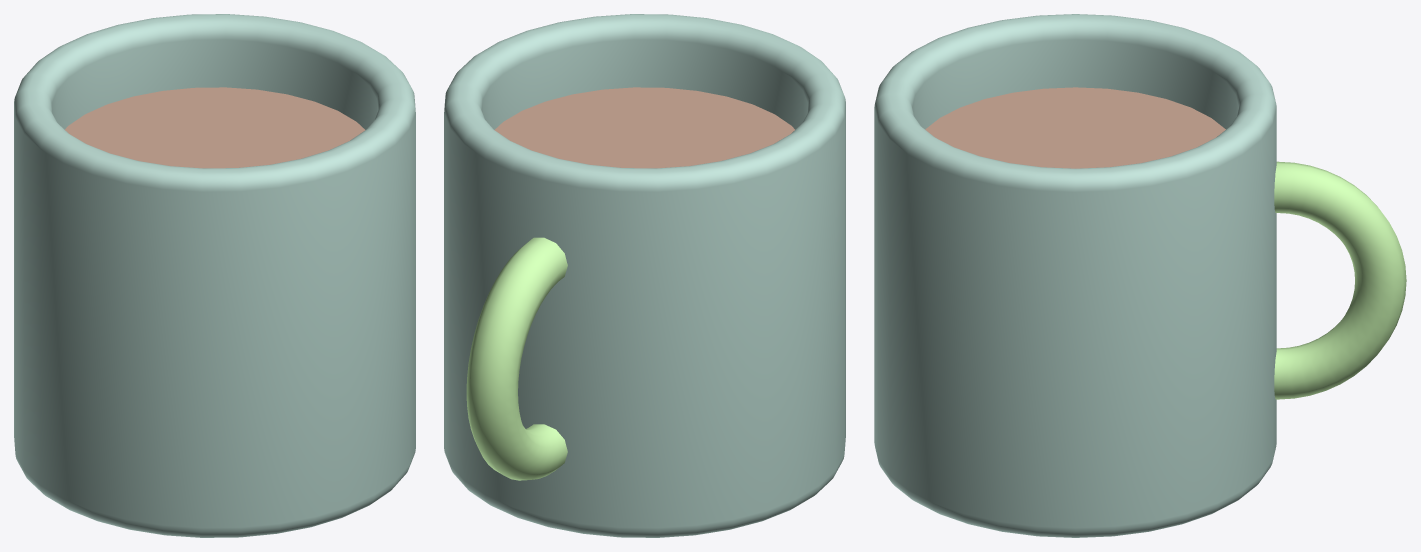
Rendered from asset.glb.
The picture shows the model from 3 angles, left to right: view 1: azimuth 30°, elevation 25°; view 2: azimuth 150°, elevation 25°; view 3: azimuth 270°, elevation 25°; orthographic projection.
Visible parts, largest first — view 1: 円柱; view 2: 円柱, トーラス; view 3: 円柱, トーラス.
Boxes of the visible parts, x1,y1,x2,y2 form: 円柱: [14, 14, 415, 537]; 円柱: [444, 14, 845, 537]; トーラス: [466, 237, 567, 480]; 円柱: [874, 14, 1276, 537]; トーラス: [1274, 161, 1406, 399].
Bounding box in the file's own units: 2 × 2 × 2.65.
